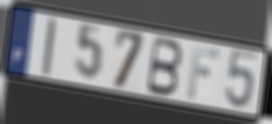5: (223, 46, 259, 112), (75, 21, 105, 87)
7: (113, 27, 148, 92)
B: (144, 35, 185, 98)
F: (185, 44, 221, 101)
I: (40, 16, 58, 79)
